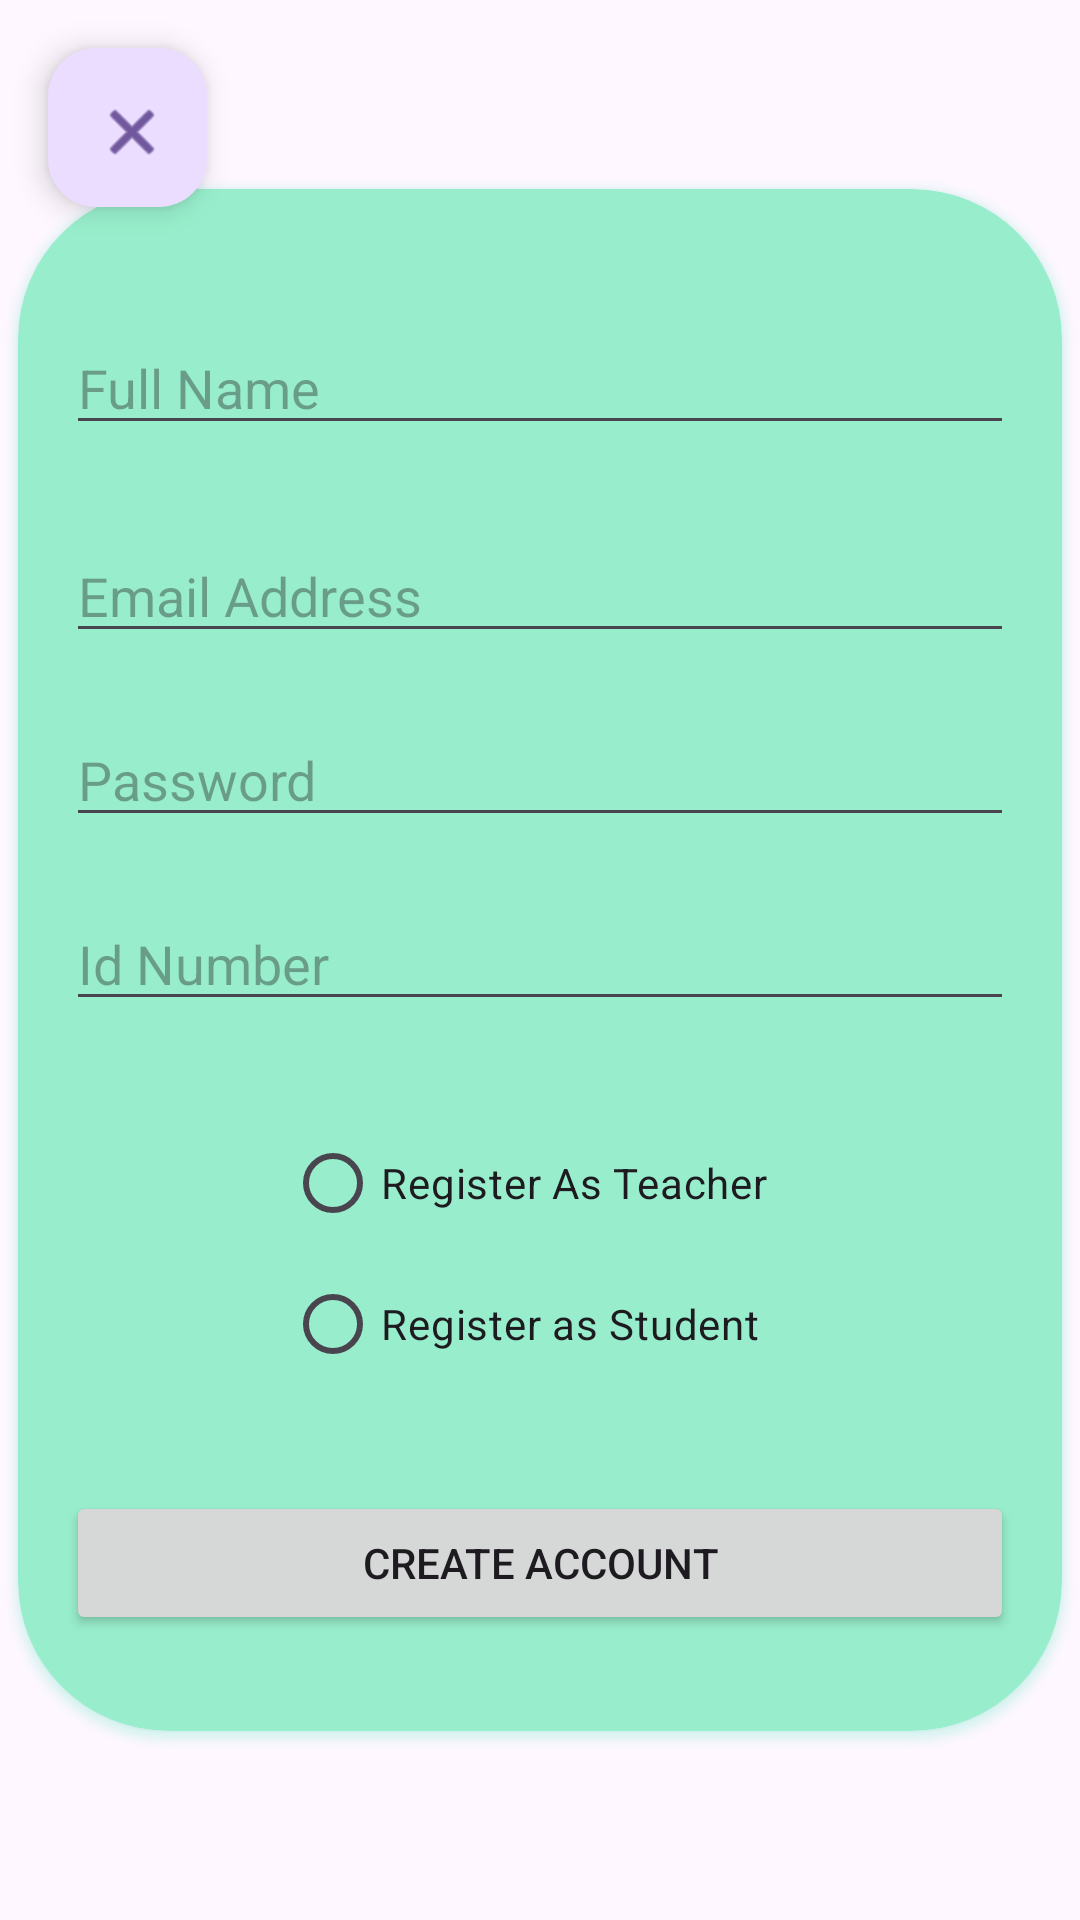

Icons on this 1080w x 1920h Android screen, each with its box as BBox(x1, y1, x2, y2):
close clear cancel: BBox(109, 109, 155, 155)
